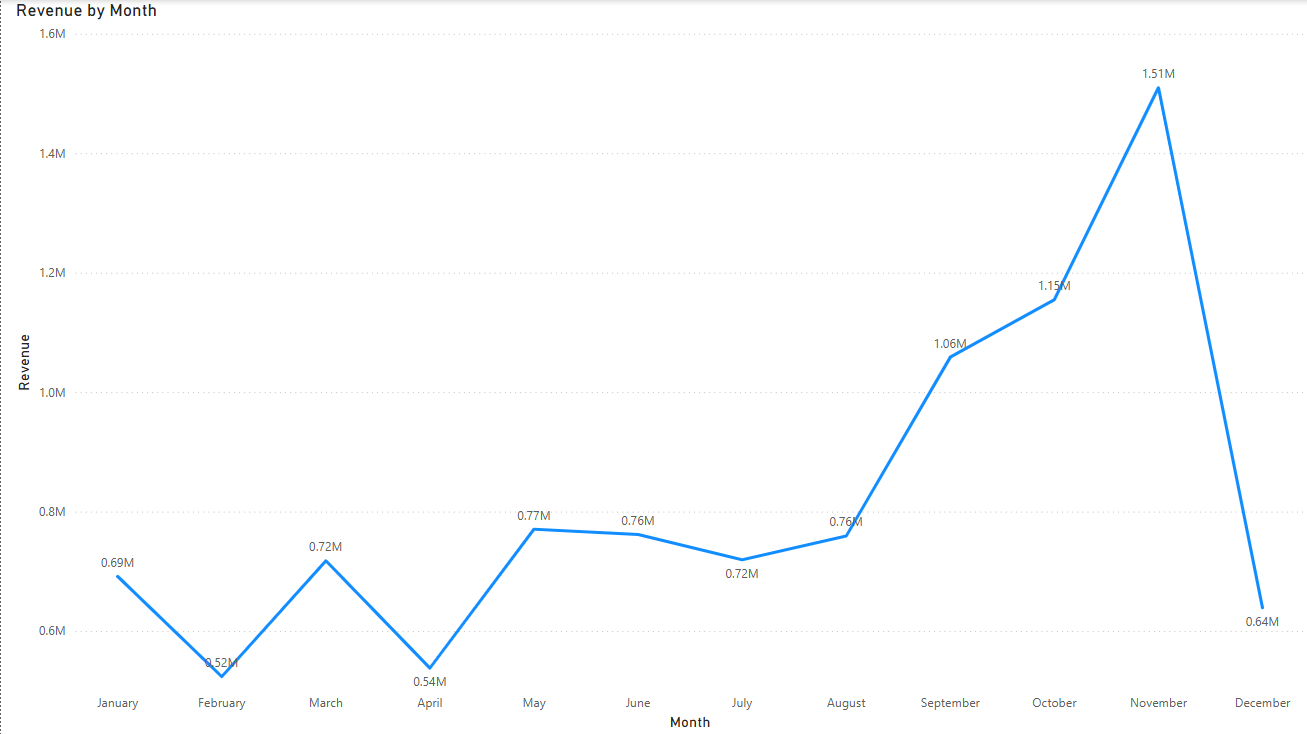

The dashboard page shown, as its layout file describes it:
{"tool":"powerbi","page":{"name":"Question 1","canvas":[1280,720],"ordinal":0},"visuals":[{"type":"lineChart","fields":{"Y":["Sum(Online Retail.Revenue)"],"Category":["Online Retail.InvoiceDate.Variation.Date Hierarchy.Month"]},"box":[9.7,0,1270.3,719.8],"z":0}]}

Visuals, with their boxes in screenshot pixels (x1, y1, x2, y2), scaled from the page's 1280x720 canvas onto the 1307x734 screenshot:
lineChart - Sum(Online Retail.Revenue) x Online Retail.InvoiceDate.Variation.Date Hierarchy.Month: bbox(10, 0, 1306, 733)
